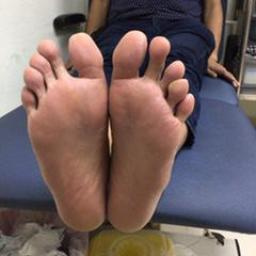Plantar View -Both Feet-: (14, 21, 199, 236)
